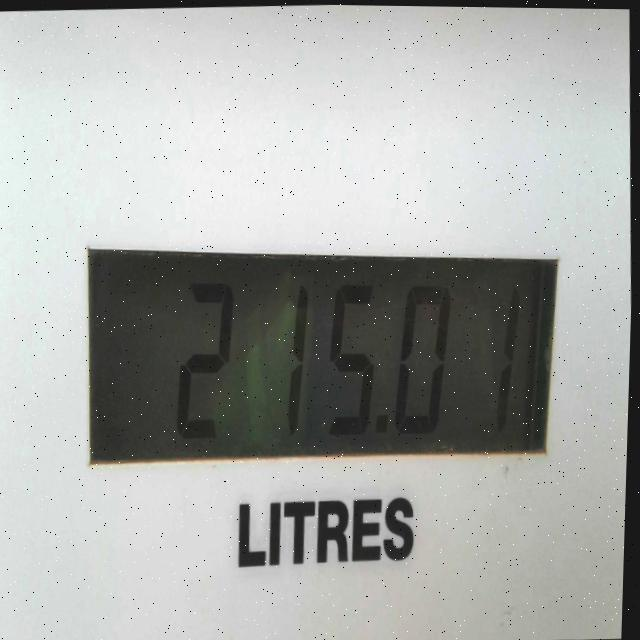.: (370, 396, 398, 452)
0: (160, 265, 258, 438), (380, 268, 469, 451)
1: (262, 273, 322, 446), (479, 274, 537, 437)
5: (317, 270, 389, 445)
